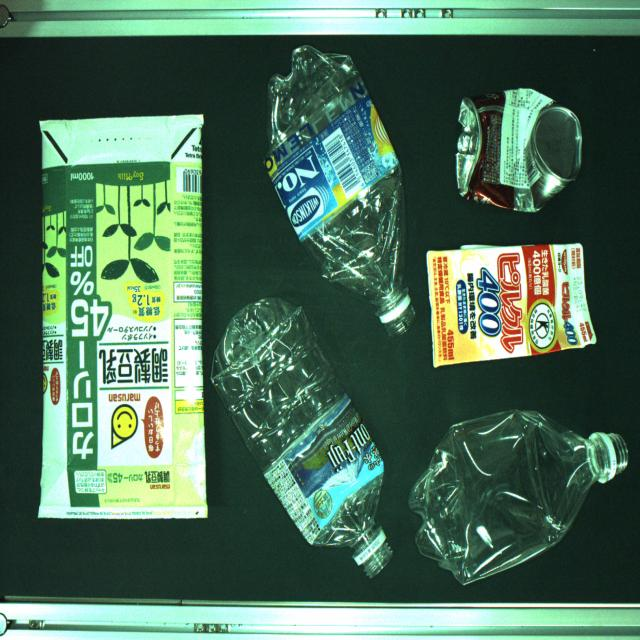Aluminium Foil: (35, 115, 210, 508), (424, 237, 598, 369)
Can: (448, 91, 580, 208)
Transparent Plastic Bottle: (214, 296, 393, 568), (262, 48, 417, 339), (407, 414, 627, 577)
